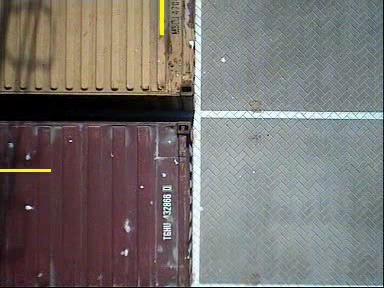groundmarker_2: (200, 144, 244, 220)
